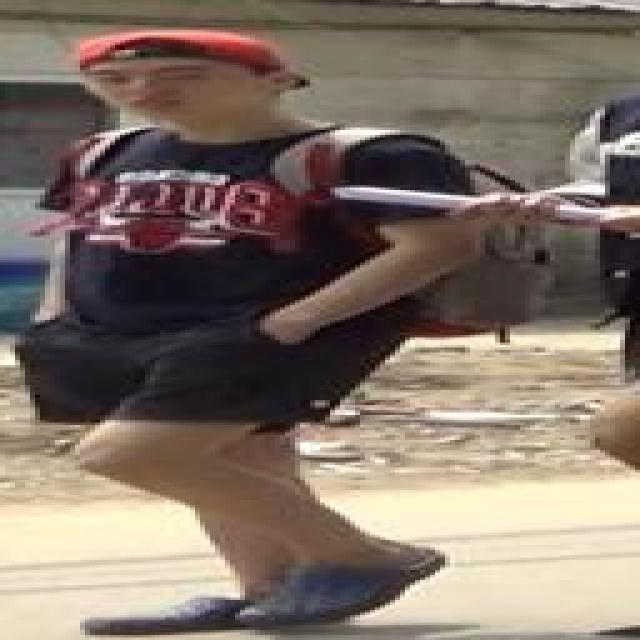adult: (16, 29, 489, 636)
